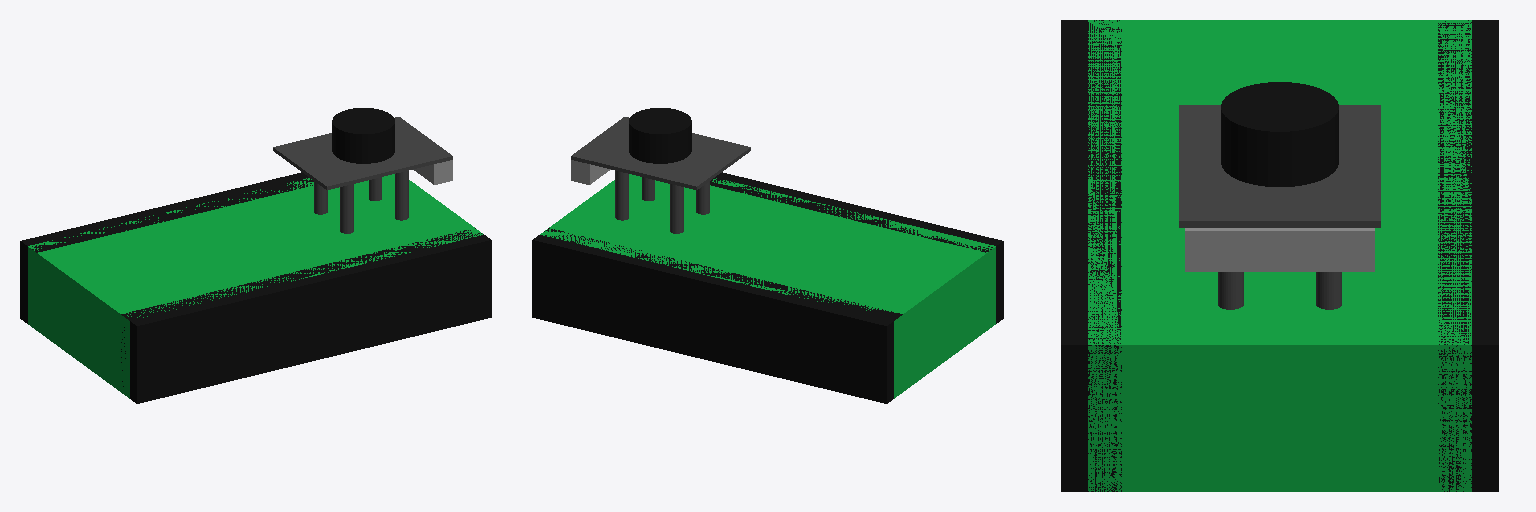
The robot description file, URDF, robot "jupiter_rover":
<?xml version="1.0" ?>
<!-- jupiter_rover — WT-600 강철 탱크 섀시 기준 전면 개정 (2026-08-27)
     근거:
     - 섀시: WT-600 강철, 자중 8.5kg, 트랙폭 40mm(캘리퍼 확인), 게이지 0.245m (실측 2026-08-27, 3법 수렴)
       ※ 리스팅 전폭 330mm는 트랙 가이드 포함(트랙 바깥끝 기준 실측 285mm) — 게이지 계산에 사용 금지
     - 휠 유효 구름 반경 0.02567m (실주행 캘리브레이션 2026-08-26, rover_platform.h)
       ※ 스프로킷 피치반경 0.0175 + 트랙 두께 ≈ 유효 0.0257로 정합
     - 데크 정적 기울기: 전고후저 3.5° 실측. 센서 데크(FUSED_ROVER)는 다리 경사보상으로 수평.
     - 센서 데크 장착: 데크 최전방(캐노피 X+88mm)이 로버 전방(x=+0.25)에서 10mm 후방, 폭 중앙
       → 데크 원점(라이다 중심) x = 0.25 − 0.010 − 0.088 = 0.152
     - 높이 실측(2026-08-27): 지면→상판(뒷다리 접점) 105mm, 지면→데크 판 190mm(상면 가정, ±5mm)
     - S2L: 스캔면 = 바닥 +20.8mm (데이터시트 p.17, RIG_MOUNT_SPEC.md)
     - D455f: camera_link = 좌IR이미저, M4면→이미저 (+0.022, +0.0475, 0) — y부호 도면 확정 대기
-->
<robot name="jupiter_rover">

  <material name="green">
    <color rgba="0.1 0.7 0.3 1.0"/>
  </material>
  <material name="black">
    <color rgba="0.1 0.1 0.1 1.0"/>
  </material>
  <material name="blue">
    <color rgba="0.1 0.3 0.9 1.0"/>
  </material>
  <material name="grey">
    <color rgba="0.6 0.6 0.6 1.0"/>
  </material>
  <material name="dark_grey">
    <color rgba="0.3 0.3 0.3 1.0"/>
  </material>

  <link name="base_footprint"/>

  <joint name="base_joint" type="fixed">
    <parent link="base_footprint"/>
    <child link="base_link"/>
    <!-- 유효 구름 반경 (실주행 캘리브레이션 2026-08-26) -->
    <origin xyz="0 0 0.02567" rpy="0 0 0"/>
  </joint>

  <!-- 차체: WT-600 본체 (트랙 제외 폭 330−2×40=250). 상판 지면高 ≈105mm(뒷다리 접점 실측) -->
  <link name="base_link">
    <visual>
      <origin xyz="0 0 0.027" rpy="0 0 0"/>
      <geometry>
        <box size="0.50 0.25 0.105"/>
      </geometry>
      <material name="green"/>
    </visual>
    <collision>
      <origin xyz="0 0 0.027" rpy="0 0 0"/>
      <geometry>
        <box size="0.50 0.25 0.105"/>
      </geometry>
    </collision>
    <inertial>
      <!-- 섀시 자중 8.5kg (탑재물 별도 — 총질량 실측 시 갱신) -->
      <mass value="8.5"/>
      <origin xyz="0 0 0.027" rpy="0 0 0"/>
      <inertia ixx="0.0521" ixy="0.0" ixz="0.0" iyy="0.1849" iyz="0.0" izz="0.2214"/>
    </inertial>
  </link>

  <link name="left_track">
    <visual>
      <origin xyz="0 0 0" rpy="0 0 0"/>
      <geometry>
        <box size="0.50 0.04 0.105"/>
      </geometry>
      <material name="black"/>
    </visual>
    <collision>
      <origin xyz="0 0 0" rpy="0 0 0"/>
      <geometry>
        <box size="0.50 0.04 0.105"/>
      </geometry>
    </collision>
    <inertial>
      <mass value="0.6"/>
      <origin xyz="0 0 0" rpy="0 0 0"/>
      <inertia ixx="0.00063" ixy="0.0" ixz="0.0" iyy="0.01305" iyz="0.0" izz="0.01258"/>
    </inertial>
  </link>

  <joint name="left_track_joint" type="continuous">
    <parent link="base_link"/>
    <child link="left_track"/>
    <origin xyz="0 0.1225 0.027" rpy="0 0 0"/>
    <axis xyz="0 1 0"/>
  </joint>

  <link name="right_track">
    <visual>
      <origin xyz="0 0 0" rpy="0 0 0"/>
      <geometry>
        <box size="0.50 0.04 0.105"/>
      </geometry>
      <material name="black"/>
    </visual>
    <collision>
      <origin xyz="0 0 0" rpy="0 0 0"/>
      <geometry>
        <box size="0.50 0.04 0.105"/>
      </geometry>
    </collision>
    <inertial>
      <mass value="0.6"/>
      <origin xyz="0 0 0" rpy="0 0 0"/>
      <inertia ixx="0.00063" ixy="0.0" ixz="0.0" iyy="0.01305" iyz="0.0" izz="0.01258"/>
    </inertial>
  </link>

  <joint name="right_track_joint" type="continuous">
    <parent link="base_link"/>
    <child link="right_track"/>
    <origin xyz="0 -0.1225 0.027" rpy="0 0 0"/>
    <axis xyz="0 1 0"/>
  </joint>

  <!-- 차체 데크 정적 기울기: 실측 3.5° 전고후저 — 데크에 평행 장착된 것(제어보드/IMU)에 적용.
       센서 데크(FUSED_ROVER)는 다리 경사보상 절삭으로 수평 → lidar/camera는 rpy 0. -->

  <!-- IMU (ICM-20948, ALOPS 보드 — 로버 상판에 장착 → 3.5° 기울기 상속.
       중력 x축 누설 ≈ 0.60 m/s². 보드 위치는 WT-600 상 실측 필요(현재 개략값).
       ⚠ 자이로 무반응 이슈(2026-08-26) — 융합 제외 중, D455f IMU로 대체 검토. -->
  <link name="imu_link"/>

  <joint name="imu_joint" type="fixed">
    <parent link="base_link"/>
    <child link="imu_link"/>
    <origin xyz="0 0 0.09" rpy="0 -0.0611 0"/>
  </joint>

  <!-- 센서 데크: lidar_deck_camera_FUSED_ROVER (3D 프린트, 경사보상 다리로 수평).
       원점 = 데크 모델 원점(라이다 마운트 중심, 판 하면 Z0). 판 하면 지면高 = 190−5 = 185mm
       → z = 0.185 − 0.02567 = 0.159. 시각화는 단순 형상(판+다리 4) — 정확 형상은
       rig_mount_v1/stand/stl/lidar_deck_camera_FUSED_ROVER.stl (mesh 사용 시 패키지에 복사 후
       <mesh filename="package://rover_description/meshes/..." scale="0.001 0.001 0.001"/>) -->
  <link name="sensor_deck_link">
    <visual>
      <!-- 판+캐노피+패드 개략 (모델 X −90..+88, Y ±66, 두께 5) -->
      <origin xyz="-0.001 0 0.0025" rpy="0 0 0"/>
      <geometry>
        <box size="0.178 0.132 0.005"/>
      </geometry>
      <material name="dark_grey"/>
    </visual>
    <visual>
      <origin xyz="0.035 0.032 -0.042" rpy="0 0 0"/>
      <geometry><cylinder radius="0.0085" length="0.084"/></geometry>
      <material name="dark_grey"/>
    </visual>
    <visual>
      <origin xyz="0.035 -0.032 -0.042" rpy="0 0 0"/>
      <geometry><cylinder radius="0.0085" length="0.084"/></geometry>
      <material name="dark_grey"/>
    </visual>
    <visual>
      <origin xyz="-0.042 0.032 -0.0445" rpy="0 0 0"/>
      <geometry><cylinder radius="0.0085" length="0.089"/></geometry>
      <material name="dark_grey"/>
    </visual>
    <visual>
      <origin xyz="-0.042 -0.032 -0.0445" rpy="0 0 0"/>
      <geometry><cylinder radius="0.0085" length="0.089"/></geometry>
      <material name="dark_grey"/>
    </visual>
  </link>

  <joint name="sensor_deck_joint" type="fixed">
    <parent link="base_link"/>
    <child link="sensor_deck_link"/>
    <origin xyz="0.152 0.0 0.159" rpy="0 0 0"/>
  </joint>

  <!-- LiDAR: RPLidar S2L, lidar_deck_camera_FUSED_ROVER 데크 상면(지면高 190mm 실측)에 장착.
       lidar_link 원점 = 스캔면 중심 = 데크 상면 +20.8mm (데이터시트 확정).
       z = (0.190 + 0.0208) − 0.02567 = 0.185. 데크 수평(경사보상 다리) → rpy 0. -->
  <link name="lidar_link">
    <visual>
      <origin xyz="0 0 0" rpy="0 0 0"/>
      <geometry>
        <cylinder radius="0.0385" length="0.0398"/>
      </geometry>
      <material name="black"/>
    </visual>
  </link>

  <joint name="lidar_joint" type="fixed">
    <parent link="base_link"/>
    <child link="lidar_link"/>
    <!-- lidar_yaw = π 확정 (2026-08-28, 좌측325mm·정면800mm 명확 배치 job6n/6o).
         /scan은 ROS 오른손계 일치(angle_increment>0, 좌측-정면=+82°≈+90° 방향보존 → 거울 아님, inverted 불필요).
         원시: 정면벽 raw−168°, 좌측벽 raw−86°. yaw=π 적용 시 base_link: 정면벽 +11°(정면+x)·좌측벽 +94°(좌측+y) 검증.
         물리 라이다는 왼손(CW)이나 rplidar_ros 드라이버가 오른손 메시지로 변환함. RPLidar 하드웨어 0°=로버 후방 → π 회전.
         (Foxglove 반전 관찰은 stale tf_static 캐시 — yaw 변경 이력 중 예전 yaw=0을 클라이언트가 쥠. 새로고침으로 해소.) -->
    <origin xyz="0.152 0.0 0.185" rpy="0 0 3.14159265"/>
  </joint>

  <!-- 카메라: RealSense D455f, 데크 일체형 벽(전면 = 데크원점 X+58mm)에 2×M4(±47.5) 체결.
       camera_link = 좌IR이미저: 데크원점 기준 X = 58+22 = 80mm → x = 0.152+0.080 = 0.232.
       z = (0.190 − 0.005(데크두께) − 0.0165(축)) − 0.02567 = 0.143.
       y = +0.0475 (M4면→좌이미저, ⚠ 부호는 도면 337029-017 확정 대기 — RViz 정합으로 검증).
       realsense2_camera가 camera_link→optical/imu 내부 TF 자동 발행. -->
  <link name="camera_link">
    <visual>
      <!-- 몸체(124×26×29)를 이미저 기준에서 중앙 정렬로 표시 -->
      <origin xyz="-0.003 -0.0475 0" rpy="0 0 0"/>
      <geometry>
        <box size="0.026 0.124 0.029"/>
      </geometry>
      <material name="grey"/>
    </visual>
  </link>

  <joint name="camera_joint" type="fixed">
    <parent link="base_link"/>
    <child link="camera_link"/>
    <origin xyz="0.232 0.0475 0.143" rpy="0 0 0"/>
  </joint>

<gazebo>
    <plugin name="diff_drive" filename="libgazebo_ros_diff_drive.so">
      <ros>
        <namespace>/</namespace>
        <remapping>cmd_vel:=cmd_vel</remapping>
        <remapping>odom:=odom</remapping>
      </ros>

      <update_rate>30</update_rate>

      <left_joint>left_track_joint</left_joint>
      <right_joint>right_track_joint</right_joint>

      <!-- WT-600 게이지 실측 0.245m (2026-08-27, 3법 수렴: 285−40 / 205+40 / 중심간 ~248.
           리스팅 전폭 330은 트랙 가이드 포함 — 계산치 0.29 폐기. 회전보정으로 유효값 최종 확정) -->
      <wheel_separation>0.245</wheel_separation>
      <!-- 유효 구름 반경 (실주행 캘리브레이션 2026-08-26) -->
      <wheel_radius>0.02567</wheel_radius>

      <max_wheel_torque>2.0</max_wheel_torque>
      <max_wheel_acceleration>1.0</max_wheel_acceleration>

      <publish_odom>true</publish_odom>
      <publish_odom_tf>true</publish_odom_tf>
      <publish_wheel_tf>false</publish_wheel_tf>

      <odometry_frame>odom</odometry_frame>
      <robot_base_frame>base_footprint</robot_base_frame>
    </plugin>
  </gazebo>

</robot>

--- What the picture shows (computed from the rendered views, not written in the file) ---
The picture shows the robot from 3 angles, left to right: view 1: azimuth 30°, elevation 25°; view 2: azimuth 150°, elevation 25°; view 3: azimuth 270°, elevation 25°; orthographic projection.
Robot: jupiter_rover — 8 links, 7 joints (2 continuous, 5 fixed); root link base_footprint; default pose: every joint at zero.
Visible links, largest first — view 1: base_link, right_track, sensor_deck_link, left_track, lidar_link, camera_link; view 2: base_link, left_track, sensor_deck_link, right_track, lidar_link, camera_link; view 3: base_link, right_track, left_track, sensor_deck_link, lidar_link, camera_link.
Link boxes in pixels (x1,y1,x2,y2): base_link: (28,174,482,398); right_track: (121,228,491,403); sensor_deck_link: (273,117,452,233); left_track: (20,172,313,323); lidar_link: (332,108,394,163); camera_link: (413,160,452,184); base_link: (540,174,995,398); left_track: (532,228,902,403); sensor_deck_link: (571,117,750,233); right_track: (710,172,1003,323); lidar_link: (629,108,691,163); camera_link: (571,160,610,184); base_link: (1088,20,1471,491); right_track: (1061,20,1121,491); left_track: (1438,20,1498,491); sensor_deck_link: (1179,105,1380,309); lidar_link: (1221,82,1338,186); camera_link: (1185,228,1374,271).
Size in the robot's own frame: 0.5 by 0.285 by 0.2304 metres.
Geometry: primitives only (box / cylinder / sphere), no mesh files.
